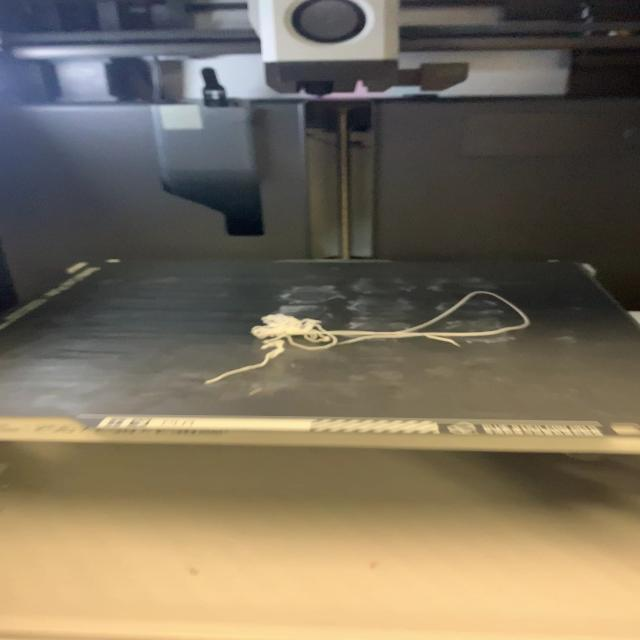spaghetti: (199, 288, 533, 388)
